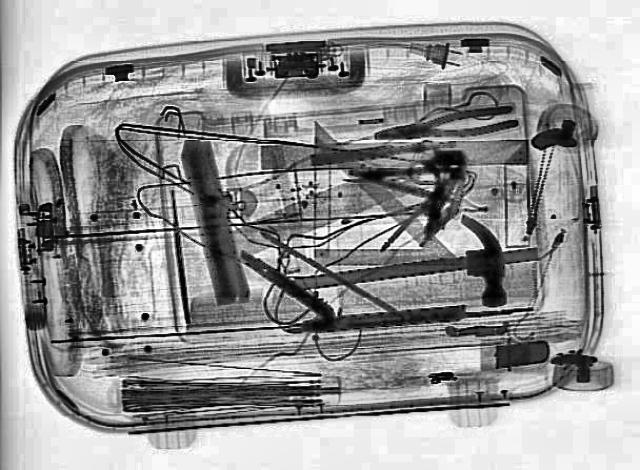Pliers: (370, 102, 520, 146)
